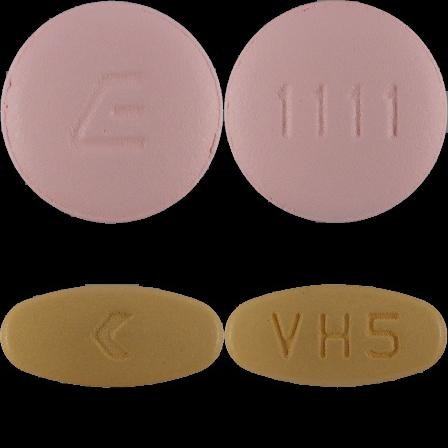61786-763: (0, 0, 224, 224)
